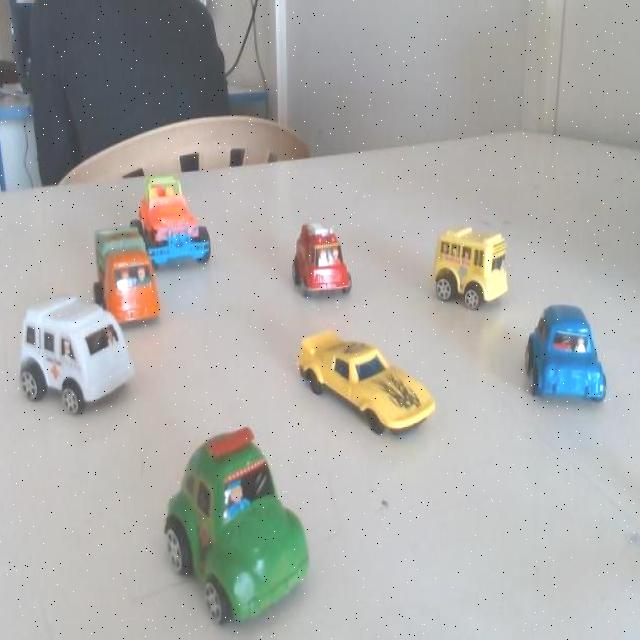car: (152, 427, 321, 630), (16, 276, 146, 437), (298, 321, 430, 442), (527, 300, 610, 410), (424, 222, 509, 322), (139, 166, 219, 268), (280, 210, 354, 316), (94, 217, 158, 329)
